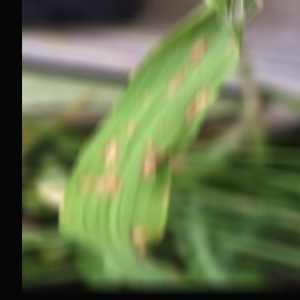Brown_Spot: (80, 133, 127, 176), (181, 85, 219, 127), (74, 172, 125, 200), (135, 147, 174, 181), (154, 63, 193, 96), (179, 29, 212, 63), (103, 116, 145, 142), (137, 124, 163, 152), (121, 219, 151, 242), (137, 86, 157, 113)
